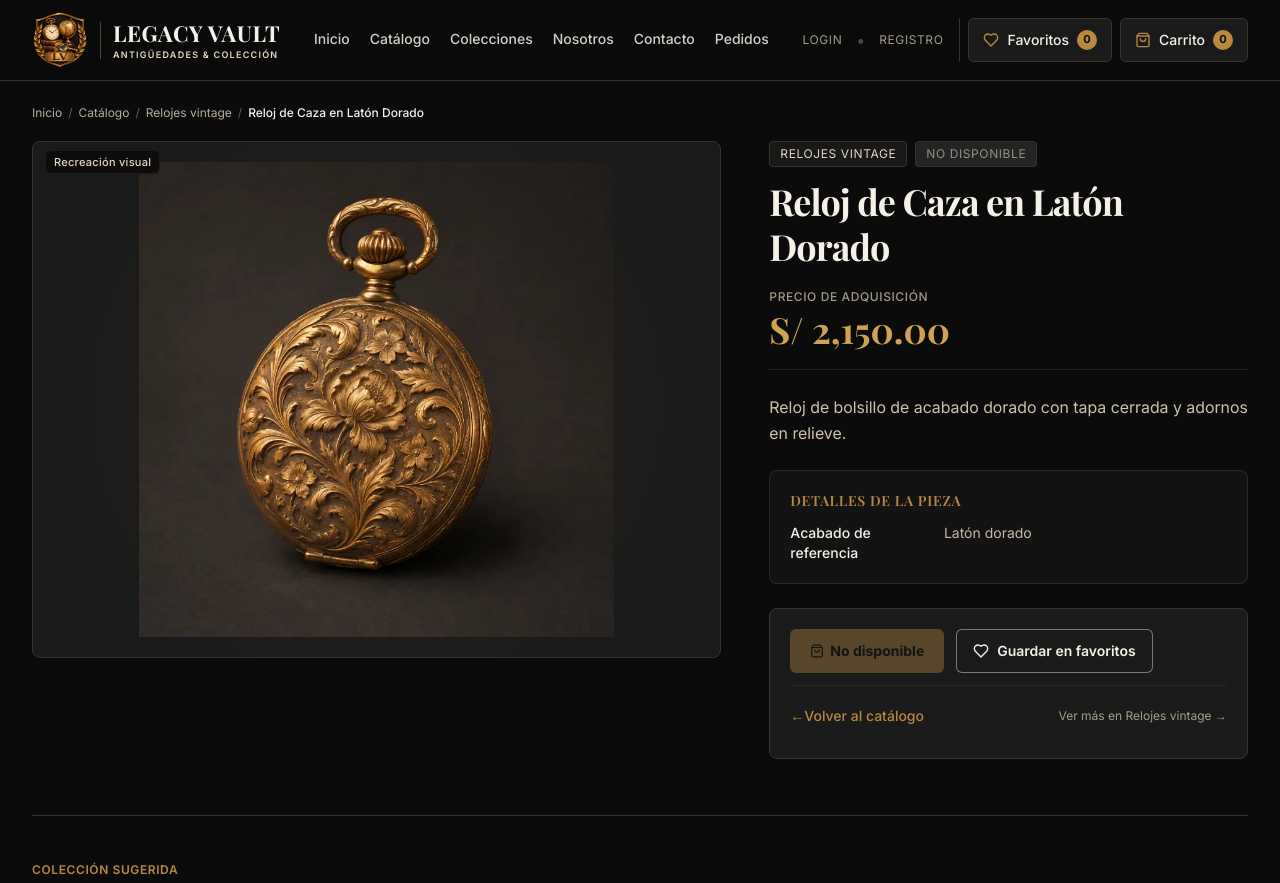
Test: Ficha de producto (ProductPage) › presenta correctamente una pieza no disponible con controles coherentes
Check: the heading "Reloj de Caza en Latón Dorado" is shown, box [769,177,1123,270]
Check: the 1st text "No disponible" is shown, box [915,141,1037,167]
Click the button with aria-label "Guardar en favoritos: Reloj de Caza en Latón Dorado". click: [1054, 651]
box: [956,629,1153,673]
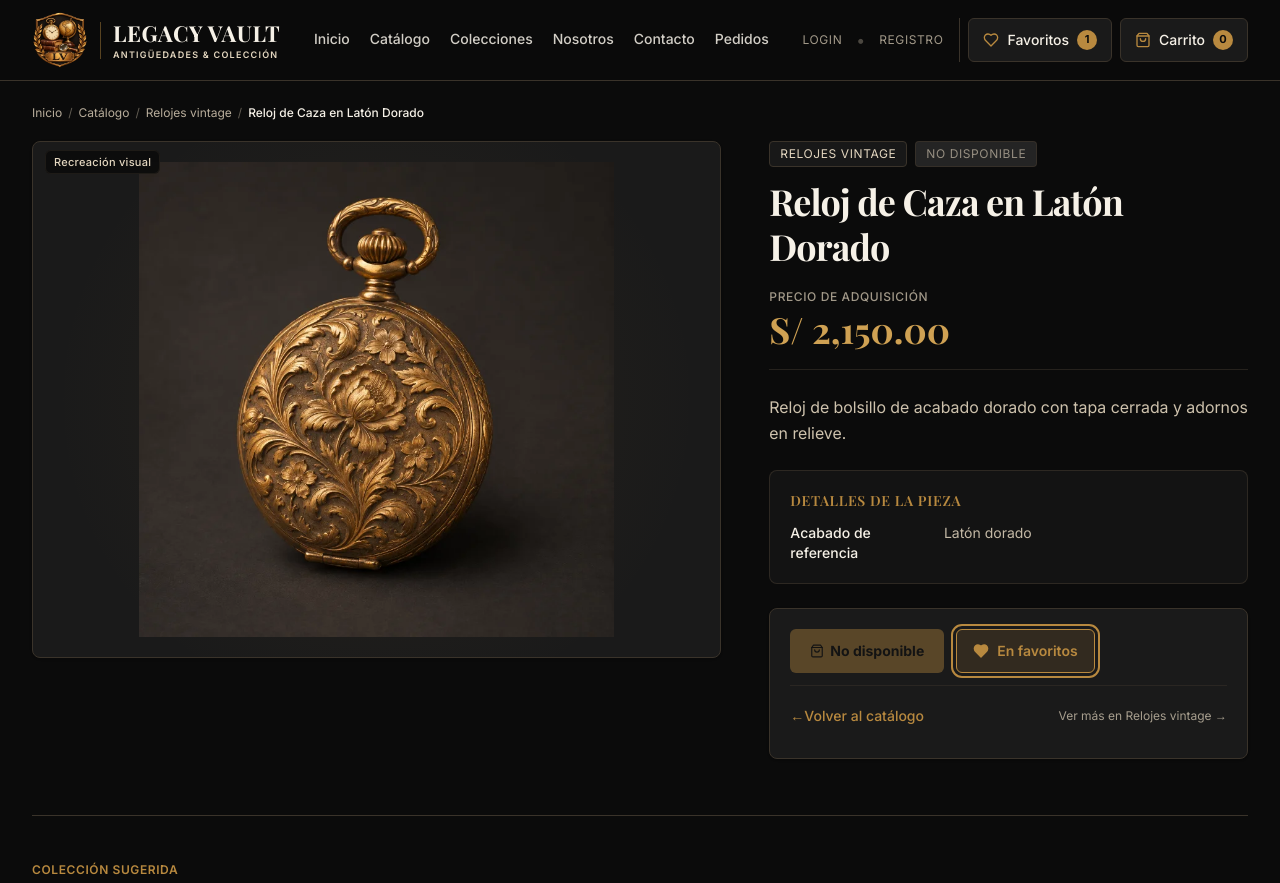
Check: the button with aria-label "Quitar de favoritos: Reloj de Caza en Latón Dorado" reads "En favoritos", box [956,629,1095,673]
